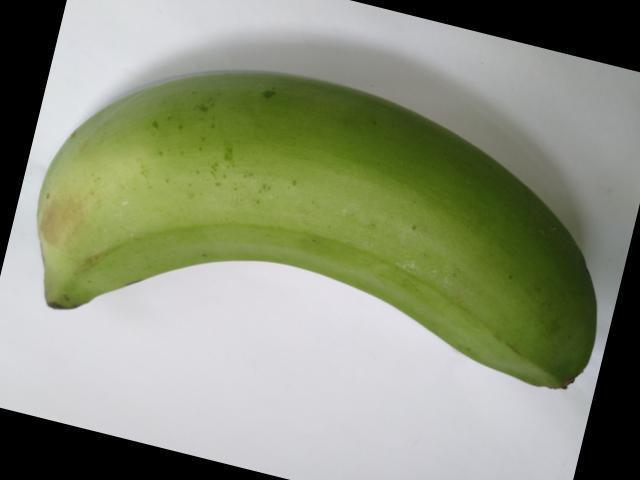freshunripe: (36, 63, 597, 426)
